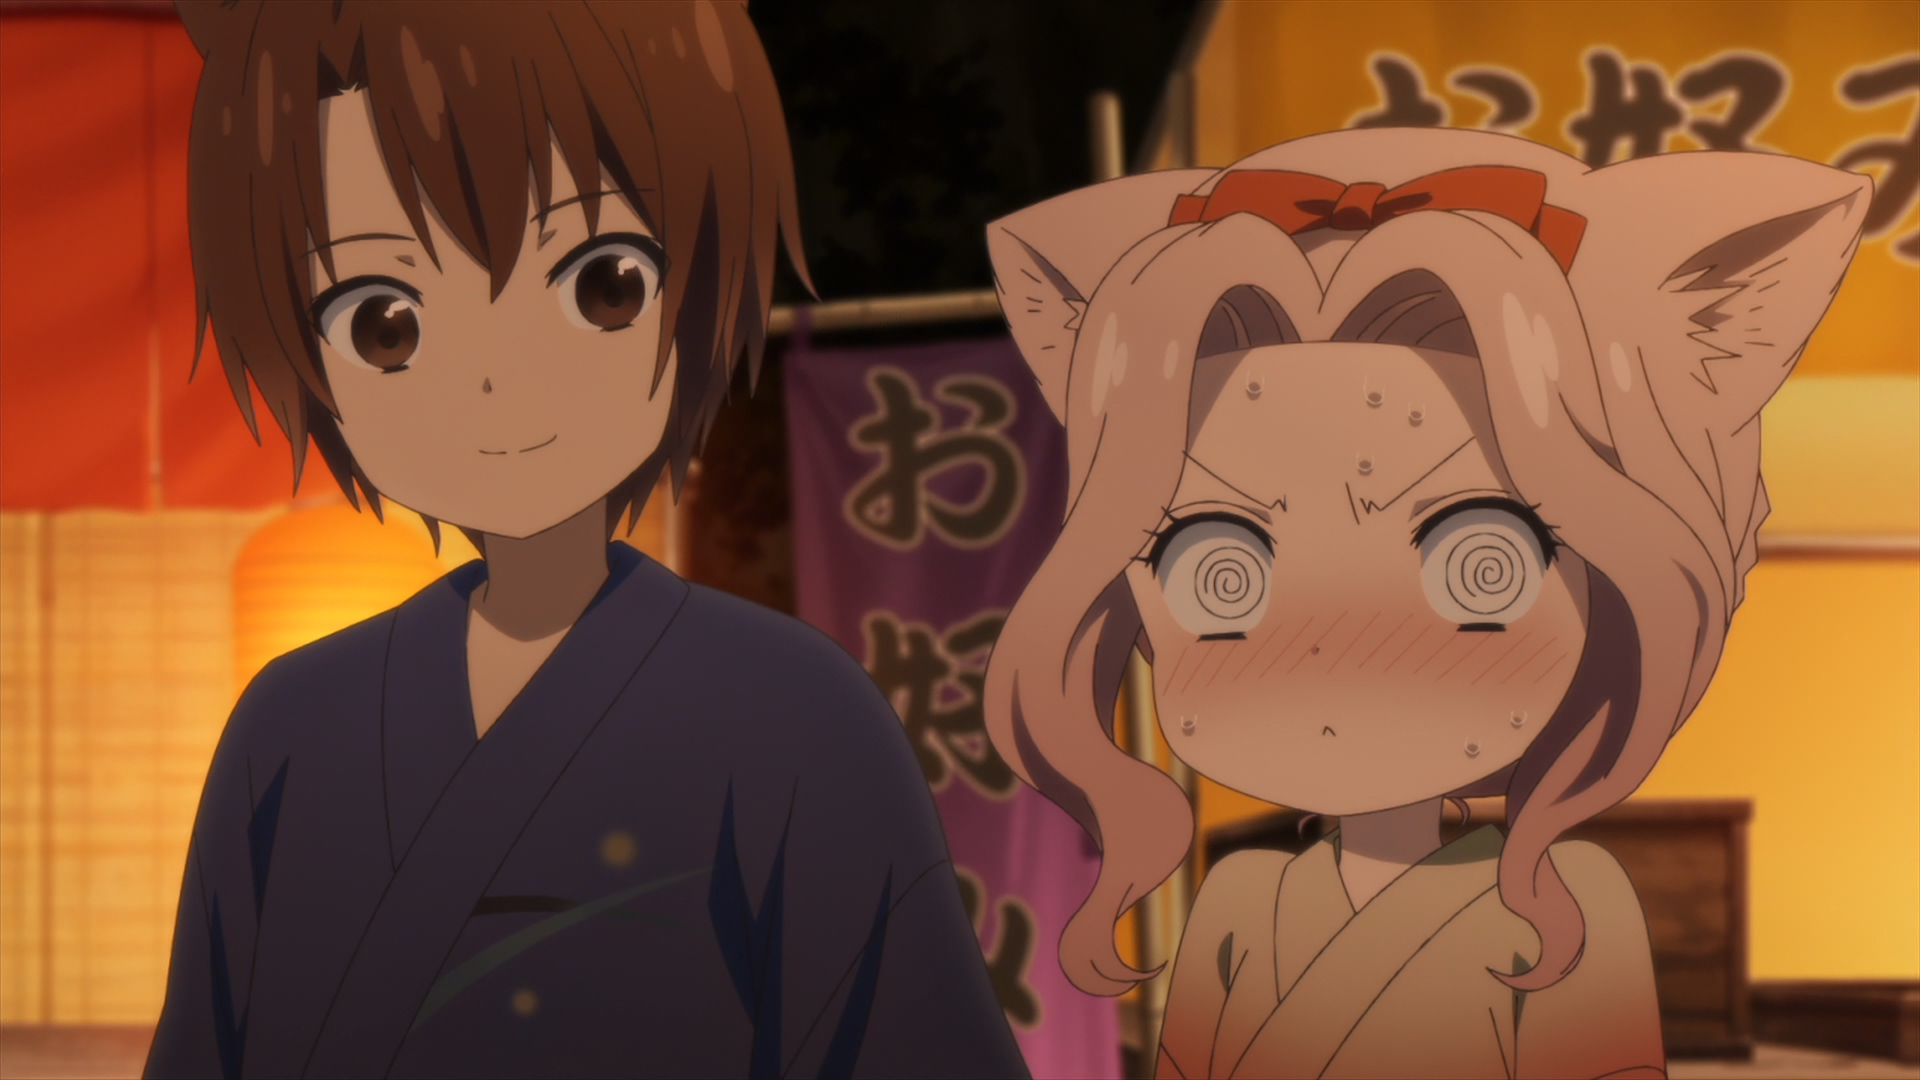枣: (144, 1, 1025, 1080)
莲: (982, 125, 1874, 1080)
